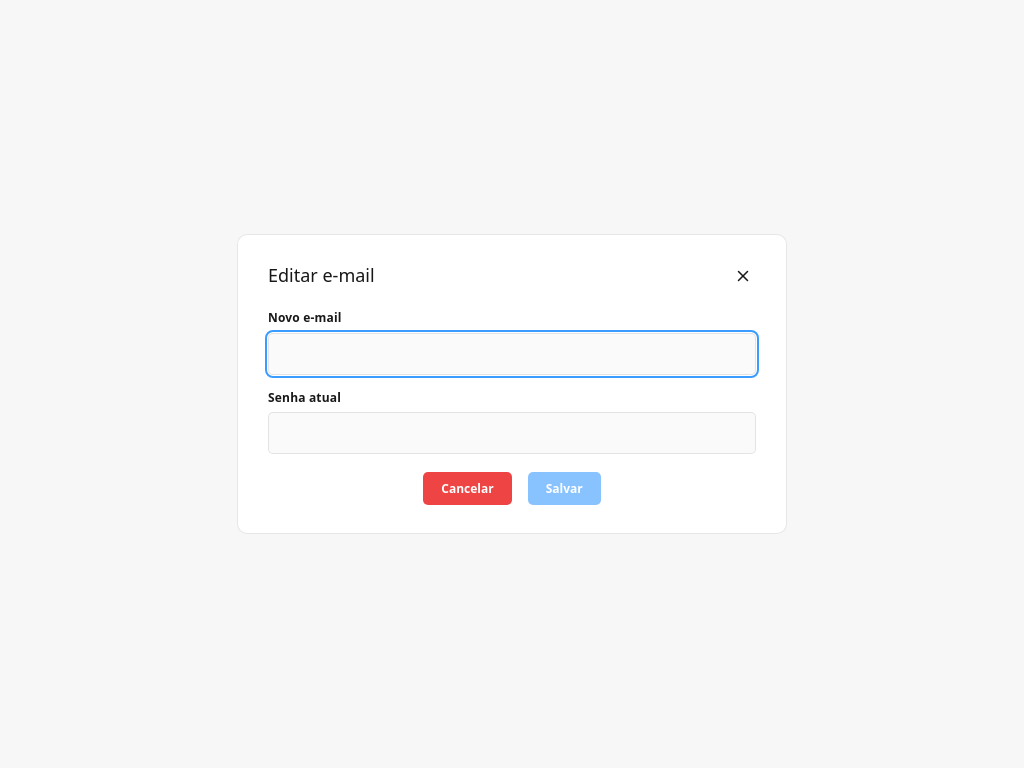
Test: AccountActionModal › mode: email › exibe erro 403 em role=alert mantendo campos preenchidos
Step 1. Type "novo@empresa.com" into the field labelled "Novo e-mail" → [512, 354], box [268,332,756,374]
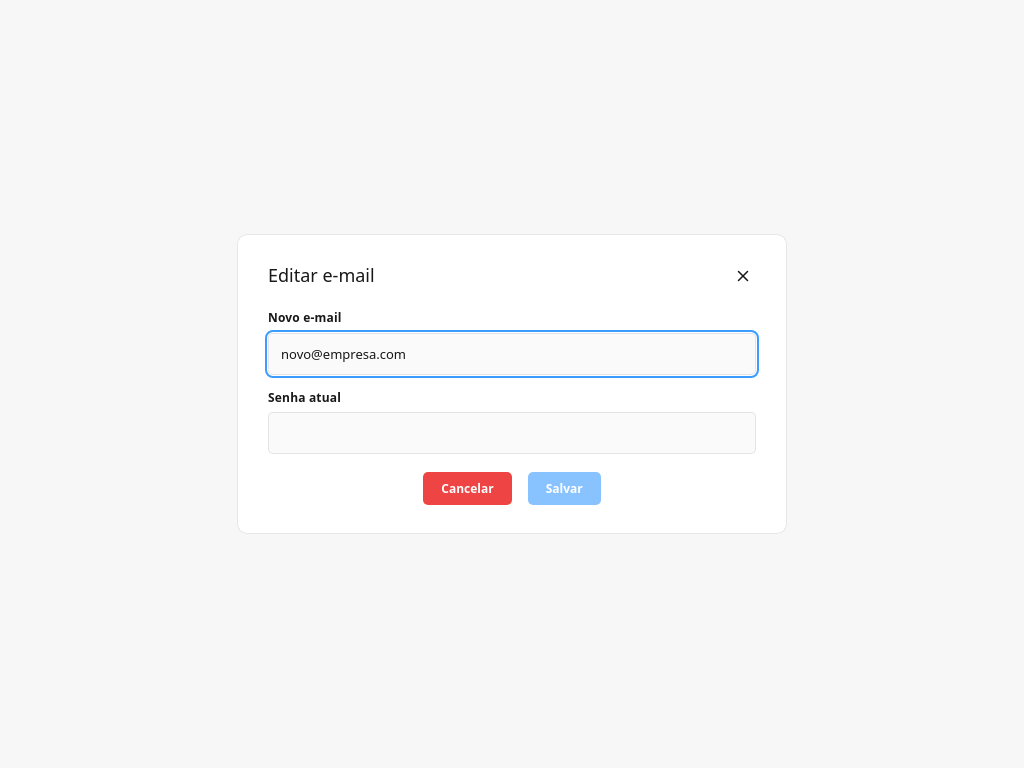
Step 2. Type "senhaErrada" into the password field labelled "Senha atual" → [512, 433], box [268,412,756,454]
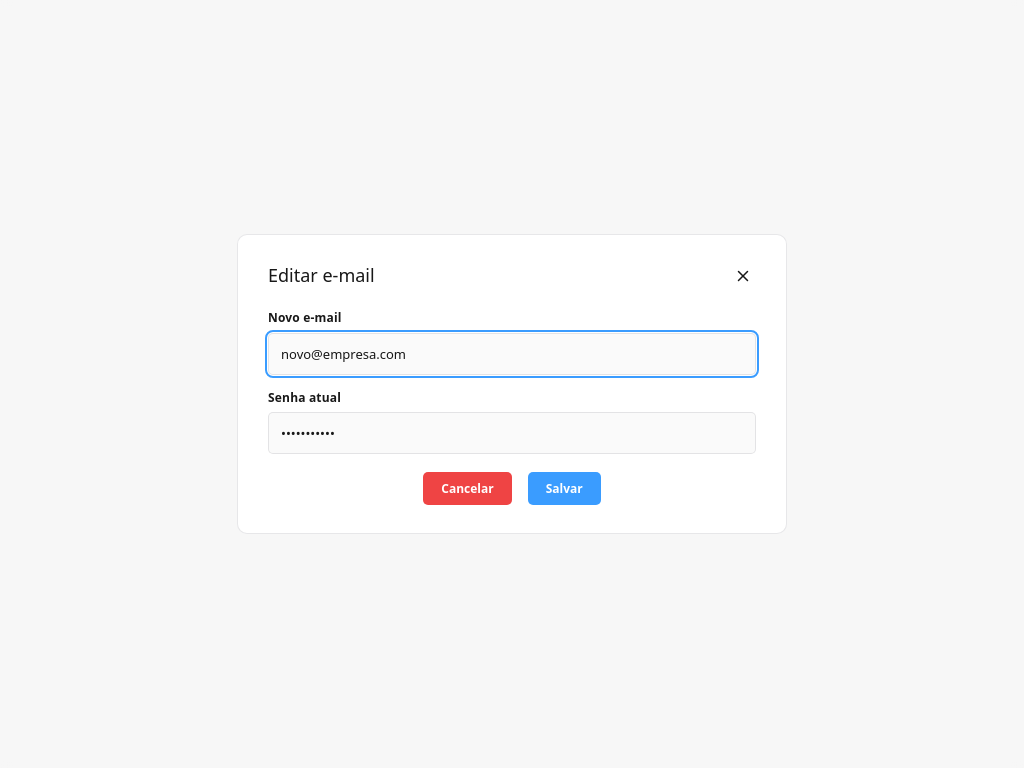
Step 3. Click the button "Salvar" → [564, 488], box [528,472,601,505]
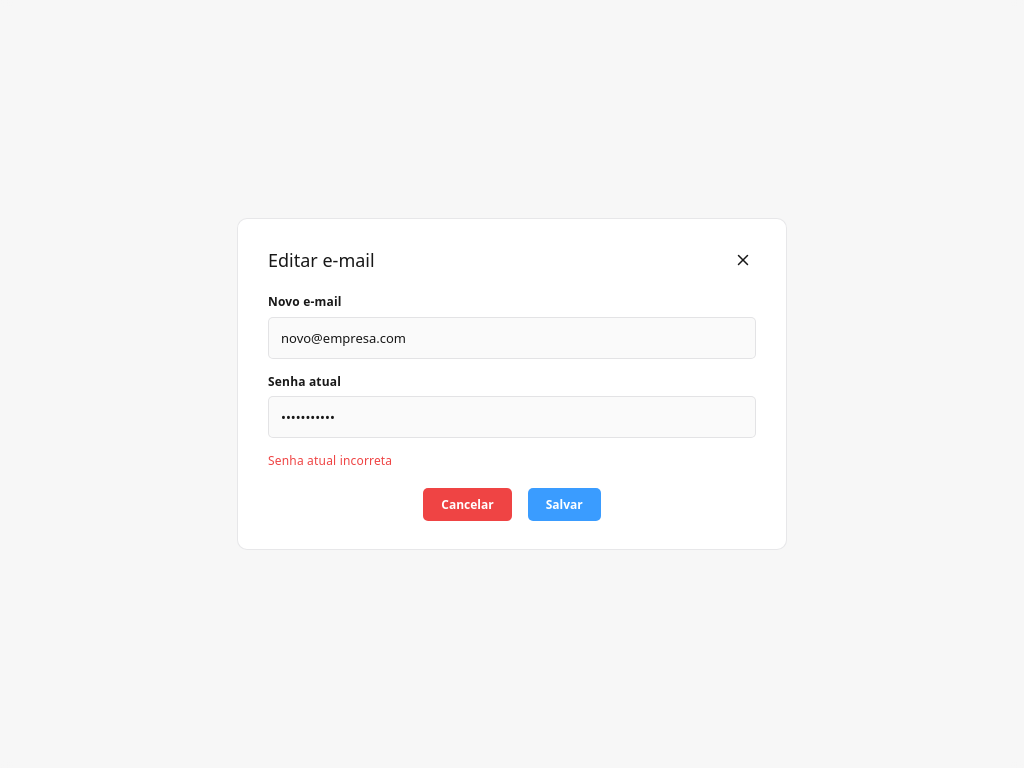
Now the message reads "Senha atual incorreta", box [268,452,392,469]
